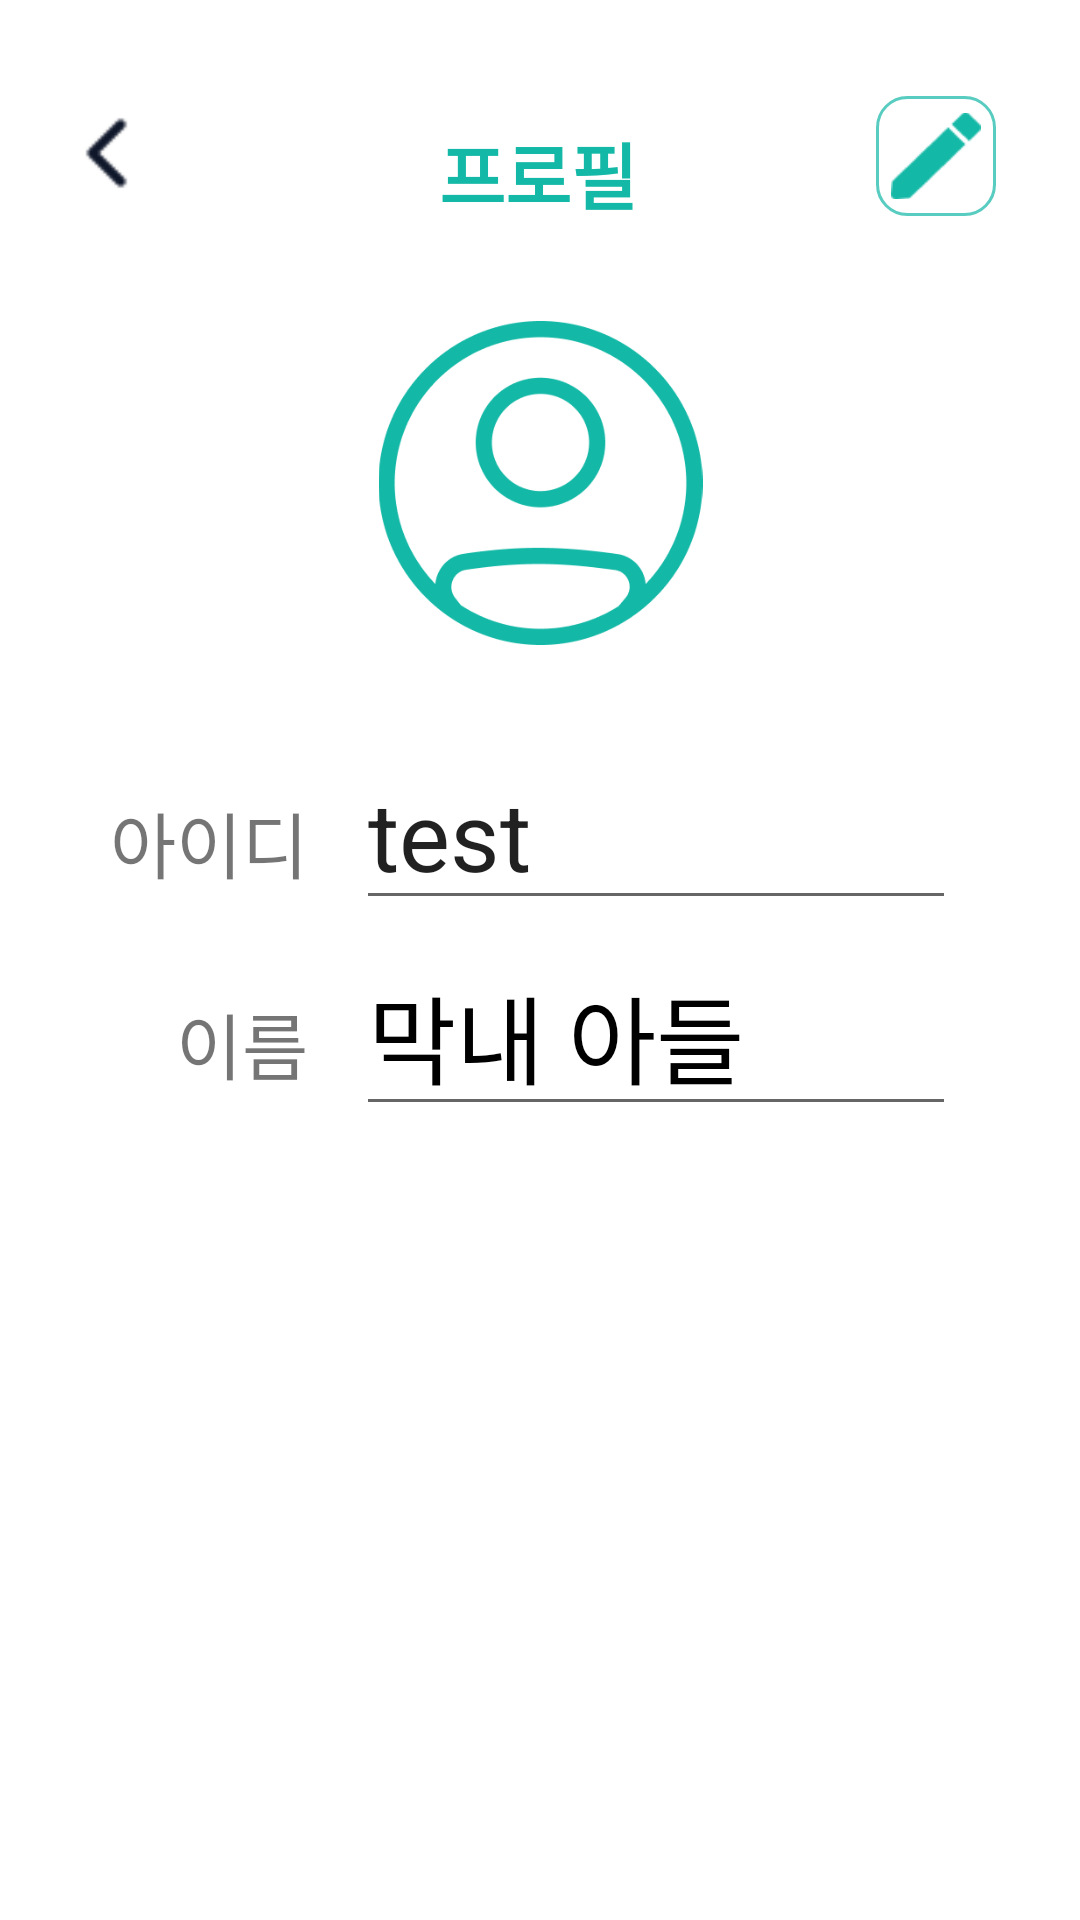

Named icons in this screenshot (1080px×1920px) and their bounding boxes, [x1,y1,x2,y2]:
back: [86,118,127,188]
editpen: [876,96,996,216]
profileimg: [379,321,703,645]
